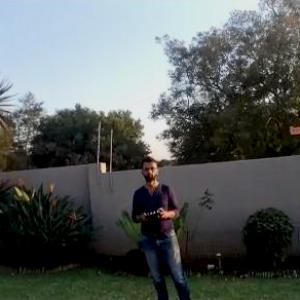follow: (126, 150, 195, 299)
